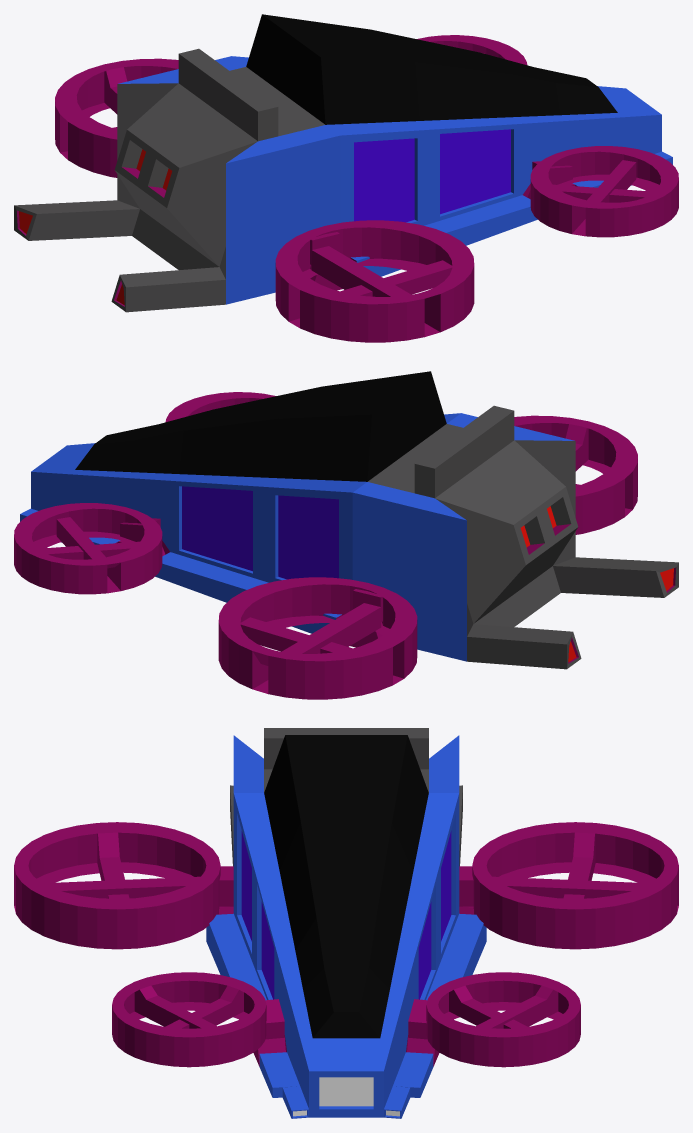
File: car2.glb
The picture shows the model from 3 angles, top to bottom: view 1: azimuth 30°, elevation 25°; view 2: azimuth 150°, elevation 25°; view 3: azimuth 270°, elevation 25°; orthographic projection. The views are drawn at different scales.
Visible parts, largest first — view 1: Cube; view 2: Cube; view 3: Cube.
Boxes of the visible parts, bbox=[...] form: Cube: bbox=[14, 14, 678, 342]; Cube: bbox=[14, 371, 678, 699]; Cube: bbox=[14, 728, 678, 1118].
Size of the model in its own units: 8.95 by 2.96 by 8.61.
